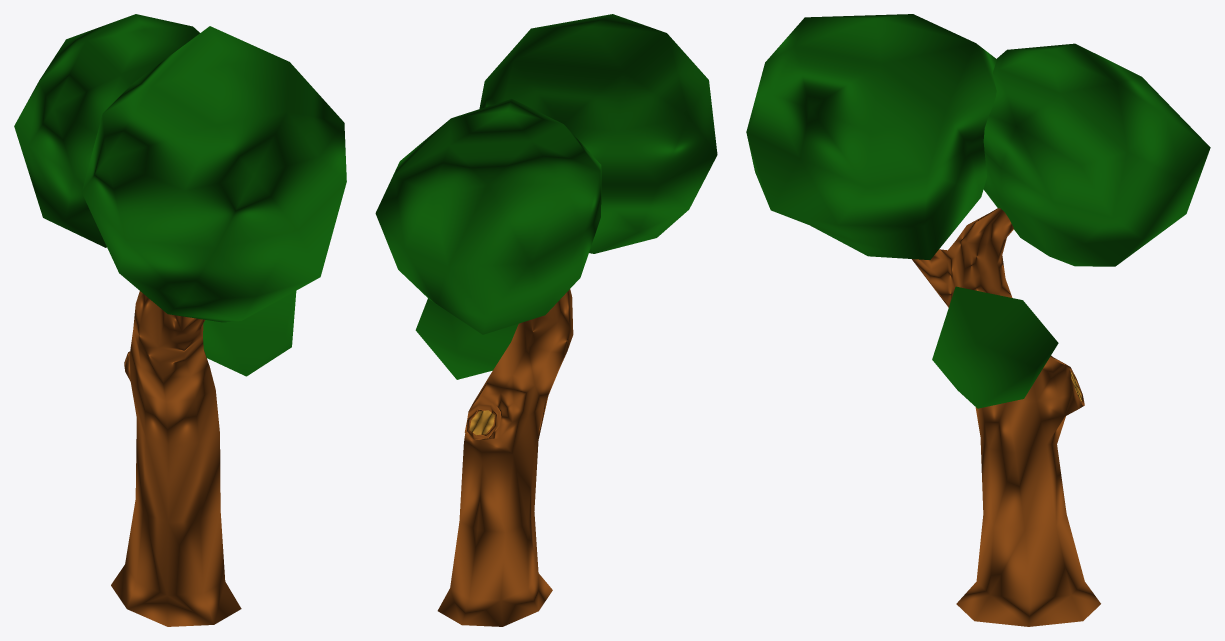
File: Tree_1.obj
3 views of the same model, side by side, from view 1: azimuth 30°, elevation 25°; view 2: azimuth 150°, elevation 25°; view 3: azimuth 270°, elevation 25° (orthographic). The views are drawn at different scales.
Visible parts, largest first — view 1: Leaves_1, Tree_1, Leaves_2, Leaves_3; view 2: Leaves_2, Leaves_1, Tree_1, Leaves_3; view 3: Leaves_1, Leaves_2, Tree_1, Leaves_3.
Part boxes in pixels (bbox=[...]): Leaves_1: bbox=[81, 26, 346, 322]; Tree_1: bbox=[111, 291, 241, 626]; Leaves_2: bbox=[14, 14, 199, 247]; Leaves_3: bbox=[203, 291, 296, 376]; Leaves_2: bbox=[375, 99, 601, 334]; Leaves_1: bbox=[479, 14, 717, 253]; Tree_1: bbox=[437, 289, 573, 626]; Leaves_3: bbox=[415, 298, 518, 379]; Leaves_1: bbox=[746, 14, 996, 259]; Leaves_2: bbox=[983, 43, 1210, 266]; Tree_1: bbox=[912, 208, 1100, 626]; Leaves_3: bbox=[932, 286, 1058, 408].
Bounding box in the file's own units: 530 × 1232 × 906.
